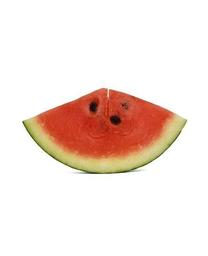watermelon: (22, 87, 187, 177)
